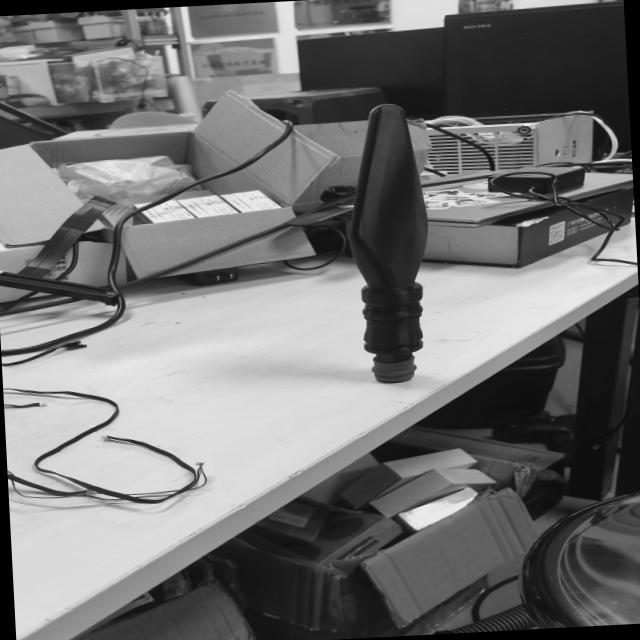base: (367, 349, 432, 387)
